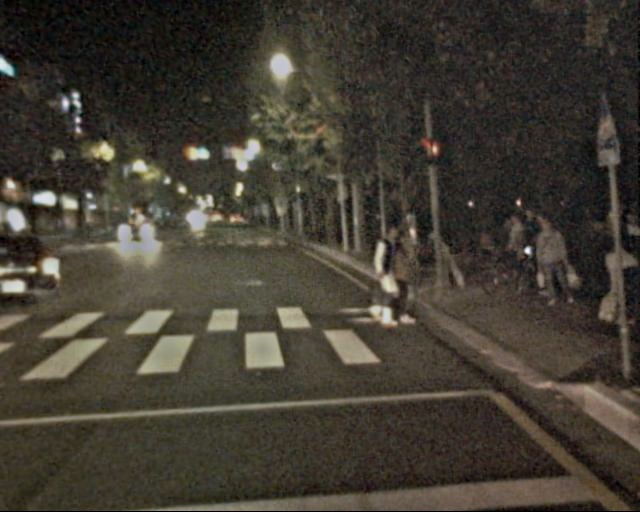person: (506, 209, 561, 295), (367, 225, 411, 332), (596, 231, 637, 330), (600, 210, 640, 309), (532, 218, 568, 307)
